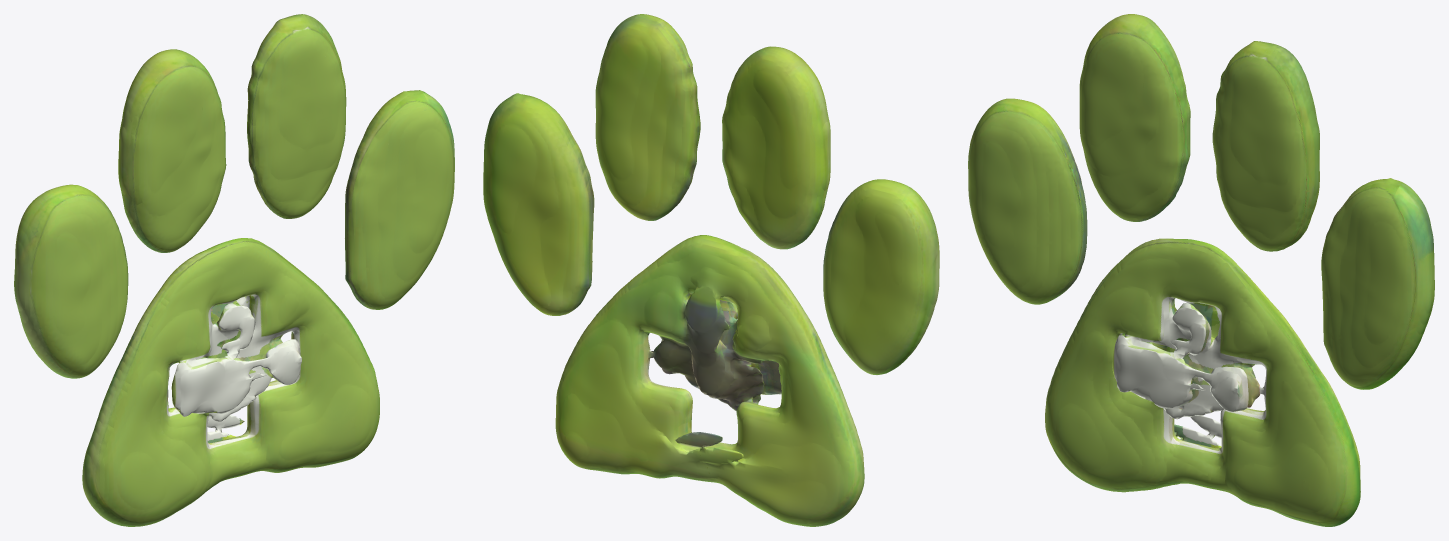
Rendered from asset.glb.
3 renders of one model, left to right at view 1: azimuth 30°, elevation 25°; view 2: azimuth 150°, elevation 25°; view 3: azimuth 330°, elevation 25°, orthographic. The views are drawn at different scales.
Visible parts, largest first — view 1: icon.png obj-re_2gbnN1u3raI5Cdq4KDdKe7o7SfY; view 2: icon.png obj-re_2gbnN1u3raI5Cdq4KDdKe7o7SfY; view 3: icon.png obj-re_2gbnN1u3raI5Cdq4KDdKe7o7SfY.
Boxes of the visible parts, box(x1,y1,x2,y2) form: icon.png obj-re_2gbnN1u3raI5Cdq4KDdKe7o7SfY: box(14, 14, 454, 526); icon.png obj-re_2gbnN1u3raI5Cdq4KDdKe7o7SfY: box(483, 14, 939, 526); icon.png obj-re_2gbnN1u3raI5Cdq4KDdKe7o7SfY: box(968, 14, 1434, 526).
Size of the model in its own units: 1.48 by 1.5 by 0.1977.
1 material, 1 textured.
